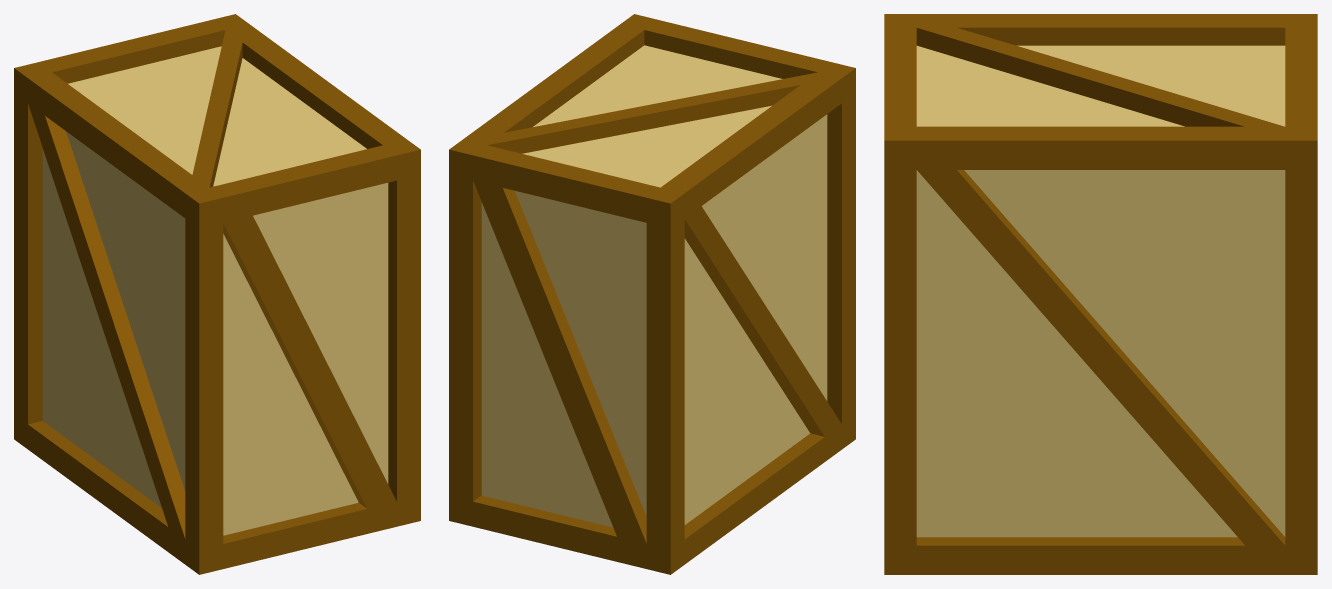
Rendered from bigBox.fbx.
3 renders of one model, left to right at view 1: azimuth 30°, elevation 25°; view 2: azimuth 150°, elevation 25°; view 3: azimuth 270°, elevation 25°, orthographic. The views are drawn at different scales.
Parts seen in each view (by area): view 1: bigBox; view 2: bigBox; view 3: bigBox.
Part boxes in pixels (x1,y1,x2,y2): bigBox: (14, 14, 420, 574); bigBox: (449, 14, 855, 574); bigBox: (884, 14, 1317, 574).
Size of the model in its own units: 192 by 307 by 278.
